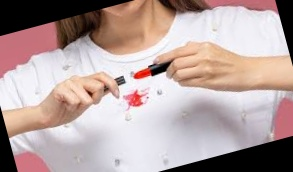lipstick: (122, 88, 150, 113)
